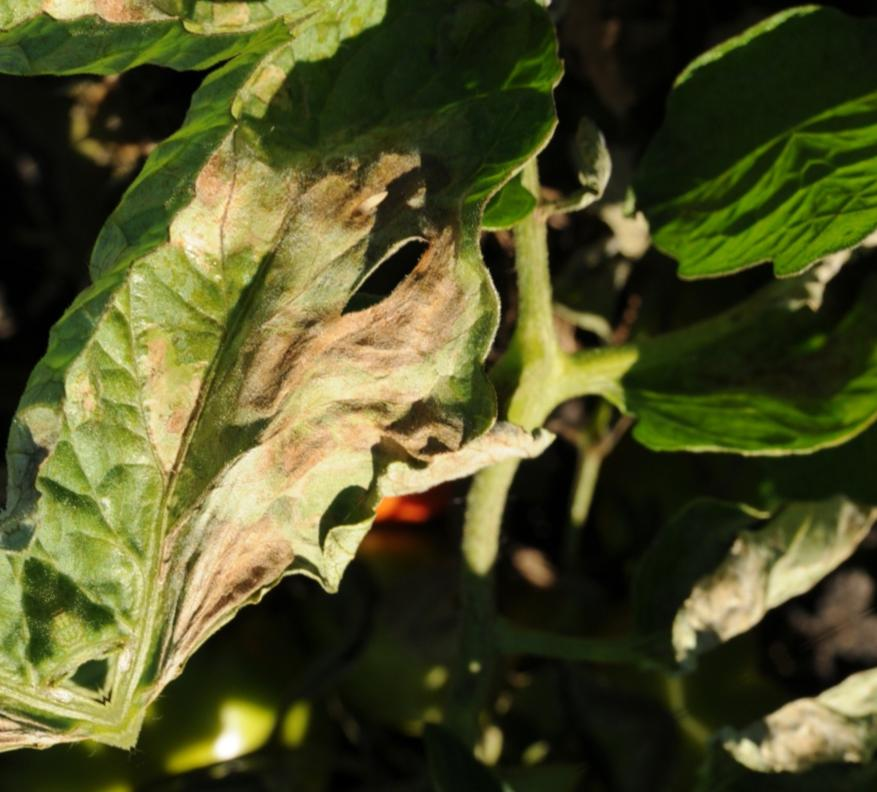Tomato leaf late blight: (0, 0, 730, 727)
